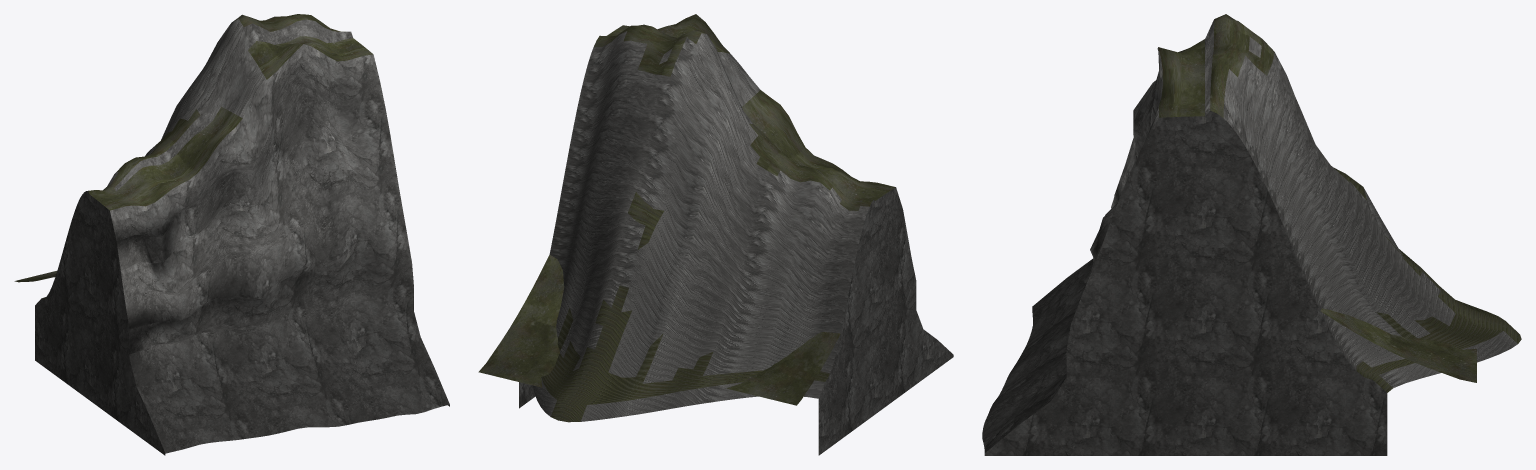
The model's file is seacliff_step_h3h5_v5_summer.glb.
3 views of the same model, side by side, from view 1: azimuth 30°, elevation 25°; view 2: azimuth 150°, elevation 25°; view 3: azimuth 270°, elevation 25° (orthographic). The views are drawn at different scales.
Visible parts, largest first — view 1: seacliff_step_h3h5; view 2: seacliff_step_h3h5; view 3: seacliff_step_h3h5.
Boxes of the visible parts, x1,y1,x2,y2 form: seacliff_step_h3h5: [14, 14, 449, 455]; seacliff_step_h3h5: [478, 14, 953, 455]; seacliff_step_h3h5: [982, 14, 1521, 455].
Size of the model in its own units: 6 by 7.32 by 9.33.
Materials: 2 (2 with a texture image).
